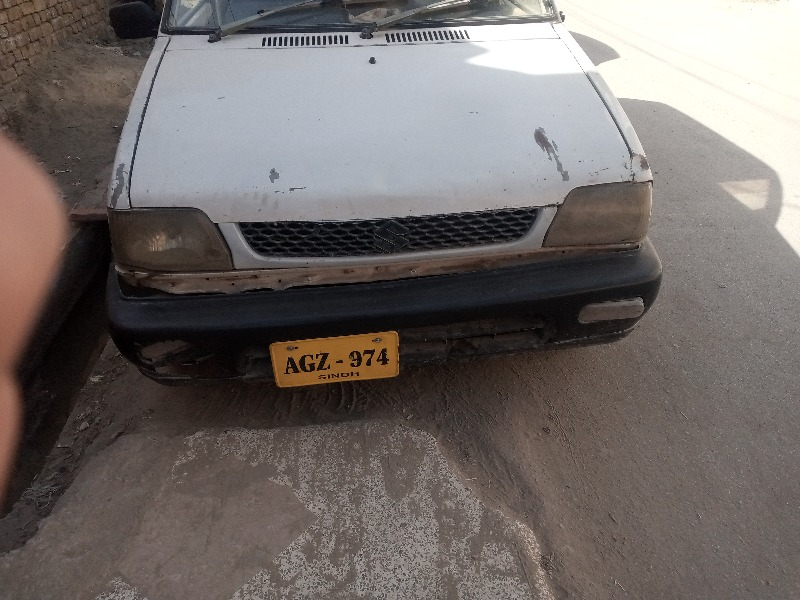License Plate: (263, 327, 406, 391)
